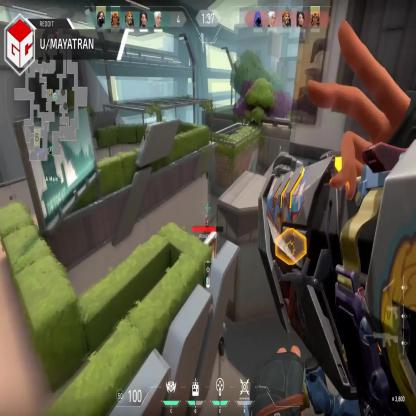enemy: (204, 215, 209, 236)
enemy_head: (206, 216, 208, 220)
